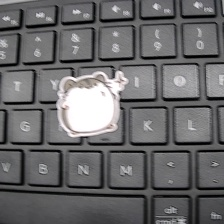mouse: (54, 68, 130, 140)
